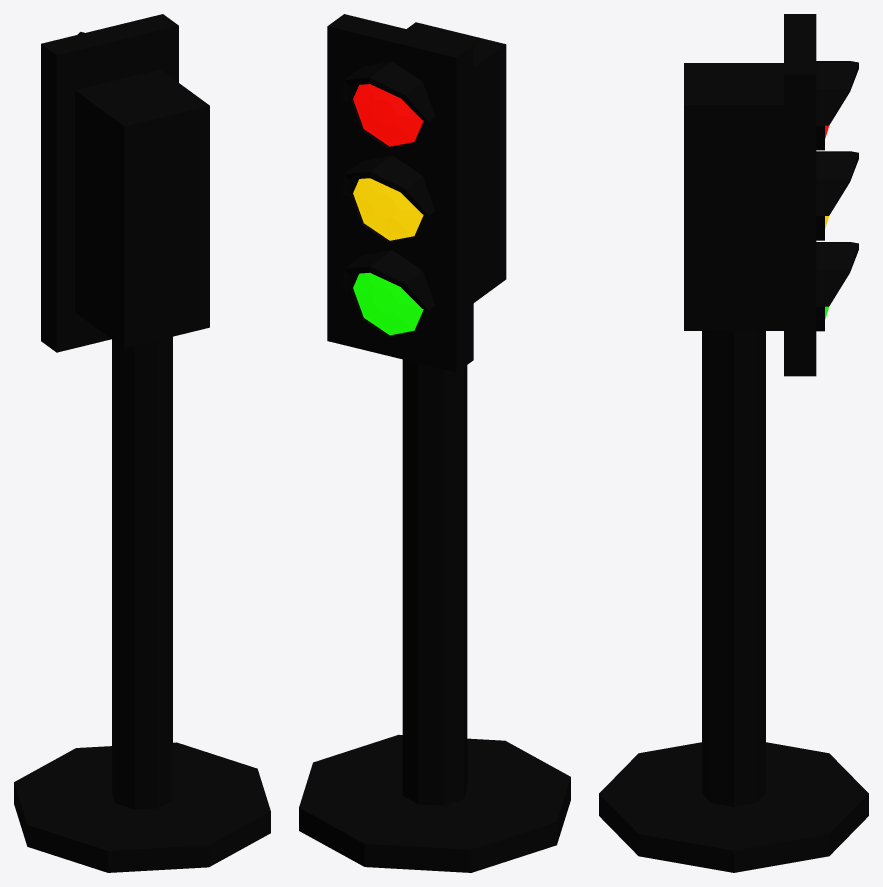
The model's file is trafficLight.gltf.
3 renders of one model, left to right at view 1: azimuth 30°, elevation 25°; view 2: azimuth 150°, elevation 25°; view 3: azimuth 270°, elevation 25°, orthographic. The views are drawn at different scales.
Parts seen in each view (by area): view 1: Traffic Light; view 2: Traffic Light; view 3: Traffic Light.
Part boxes in pixels (<box>): Traffic Light: <box>14,14,270,872</box>; Traffic Light: <box>299,14,570,872</box>; Traffic Light: <box>599,14,868,872</box>.
Size of the model in its own units: 1 by 3.15 by 1.
